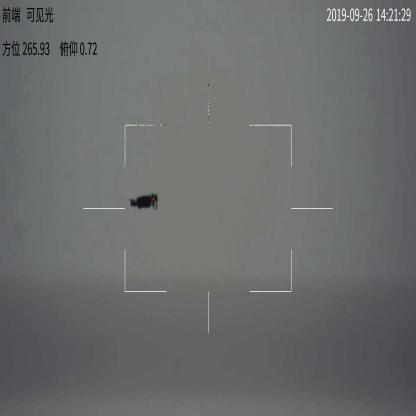uav: (122, 190, 164, 211)
